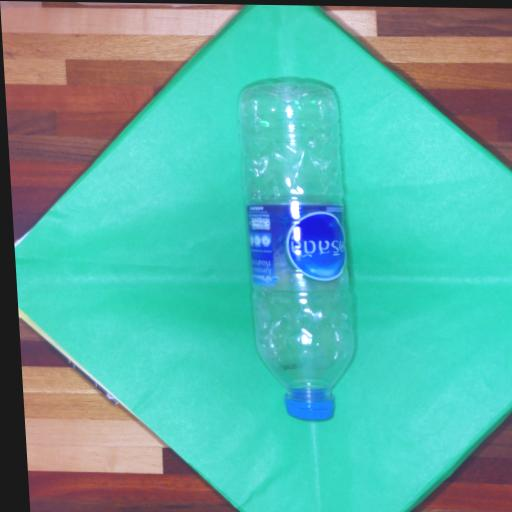bottle: (240, 82, 354, 418)
